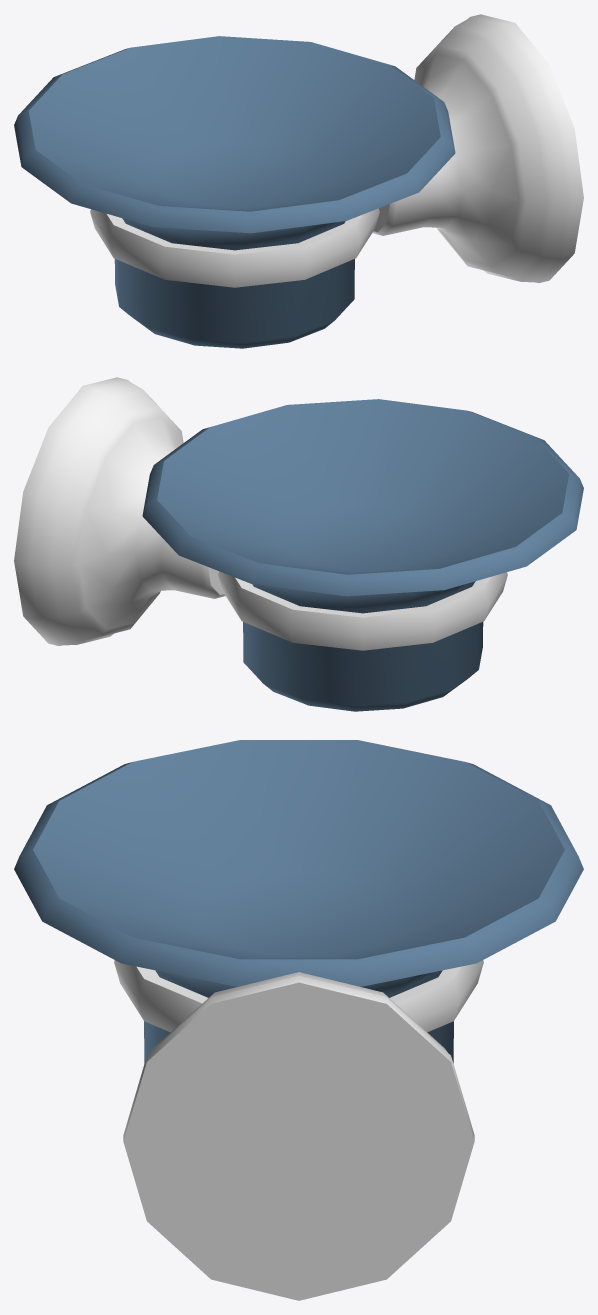
File: KOHLER10560.FBX
3 renders of one model, top to bottom at view 1: azimuth 30°, elevation 25°; view 2: azimuth 150°, elevation 25°; view 3: azimuth 270°, elevation 25°, orthographic. The views are drawn at different scales.
Visible parts, largest first — view 1: KOHLER10560; view 2: KOHLER10560; view 3: KOHLER10560.
Part boxes in pixels (left/top/right/bottom): KOHLER10560: left=14, top=14, right=583, bottom=348; KOHLER10560: left=14, top=377, right=583, bottom=711; KOHLER10560: left=14, top=740, right=583, bottom=1300.
Size of the model in its own units: 405 by 206 by 334.
